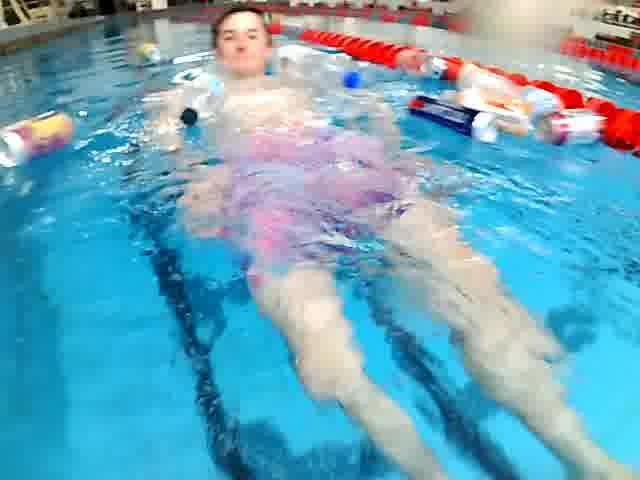Bottle: (273, 39, 366, 98), (179, 72, 230, 128)
Can: (0, 100, 77, 168), (406, 94, 498, 148), (538, 109, 606, 150)
